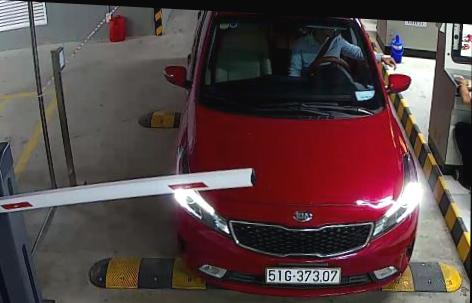License_Plate: (265, 259, 343, 290)
